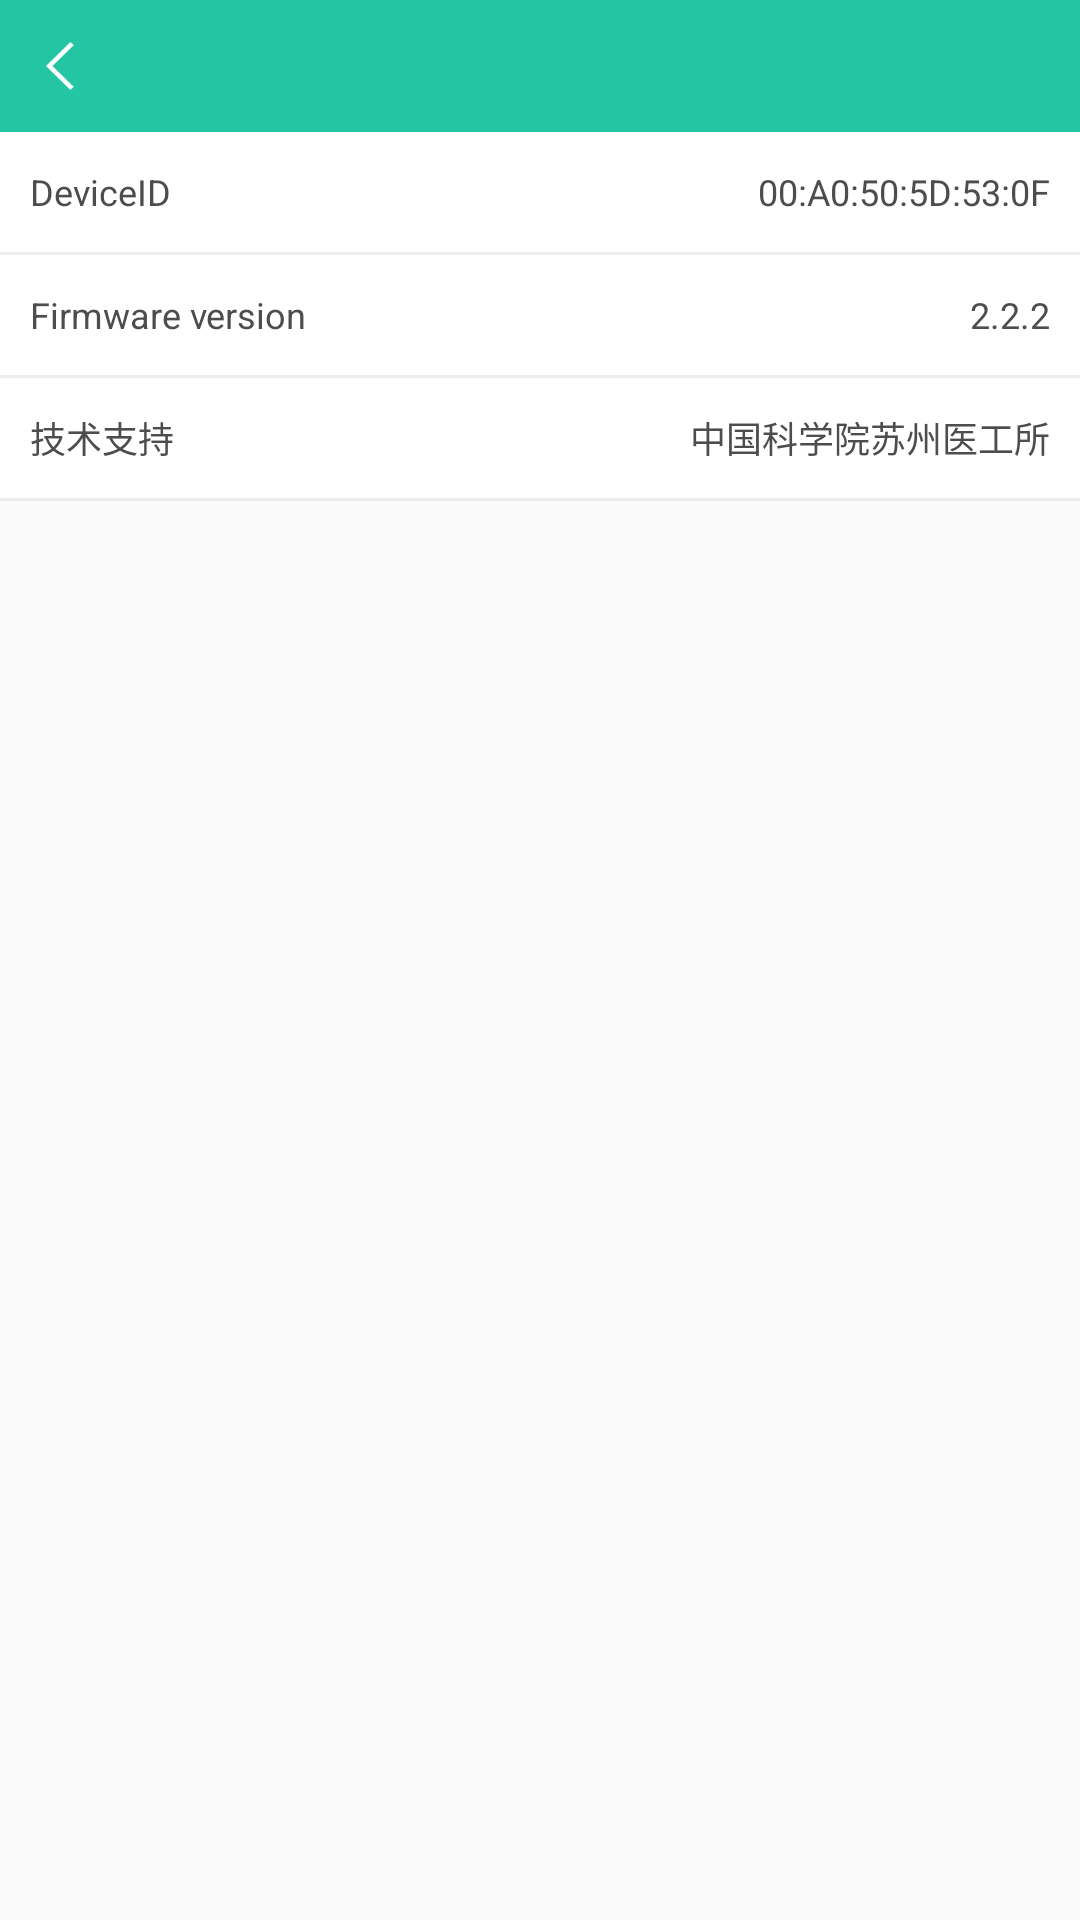

Named icons in this screenshot (1080w x 1920h) and their centers, point (x, y):
back: point (60, 66)
